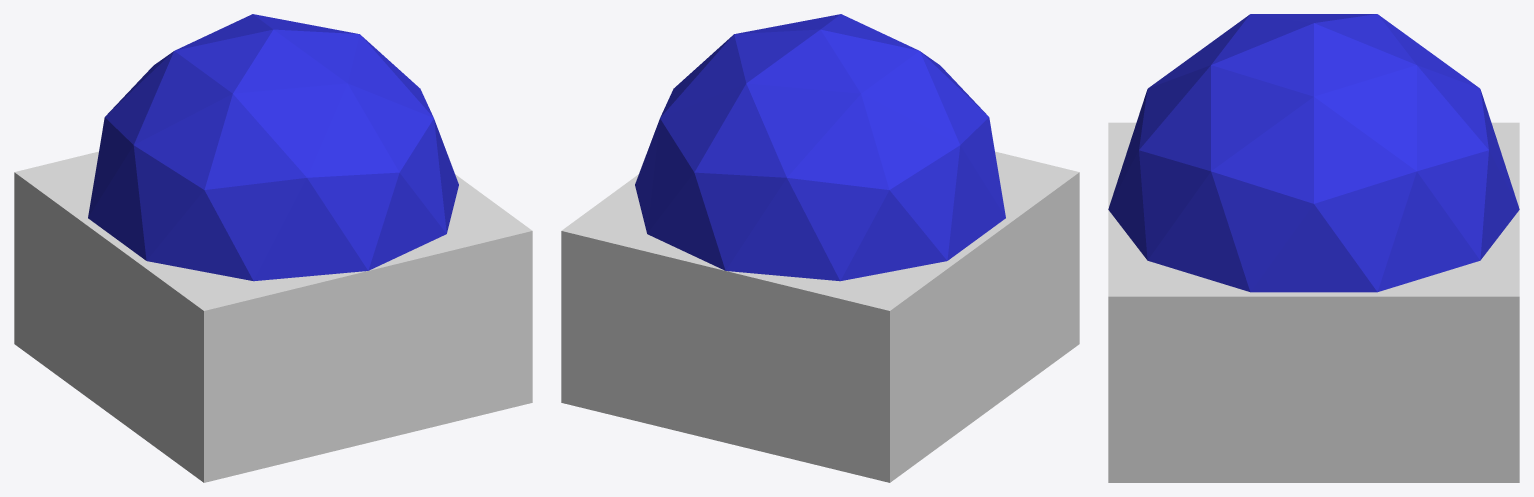
File: moon hangar.glb
The picture shows the model from 3 angles, left to right: view 1: azimuth 30°, elevation 25°; view 2: azimuth 150°, elevation 25°; view 3: azimuth 270°, elevation 25°; orthographic projection. The views are drawn at different scales.
Visible parts, largest first — view 1: Cube, Icosphere; view 2: Cube, Icosphere; view 3: Cube, Icosphere.
Part boxes in pixels (<box>): Cube: <box>14,151,532,482</box>; Icosphere: <box>88,14,458,281</box>; Cube: <box>561,151,1079,482</box>; Icosphere: <box>635,14,1005,281</box>; Cube: <box>1108,122,1519,482</box>; Icosphere: <box>1108,14,1519,292</box>.
Bounding box in the file's own units: 2 × 2 × 2.
